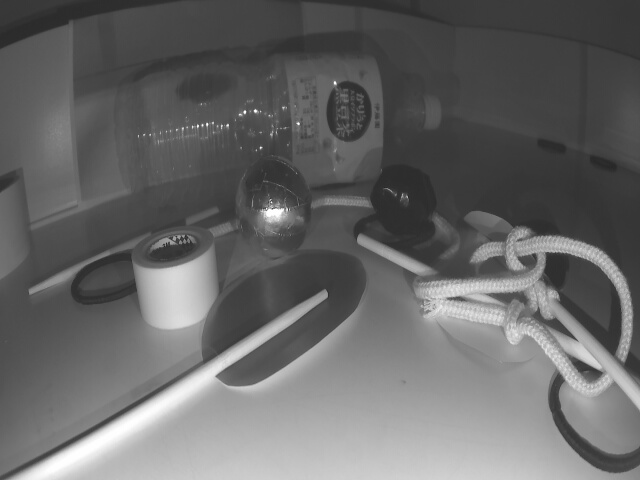Dead: (373, 163, 435, 234)
Live: (234, 161, 308, 252)
